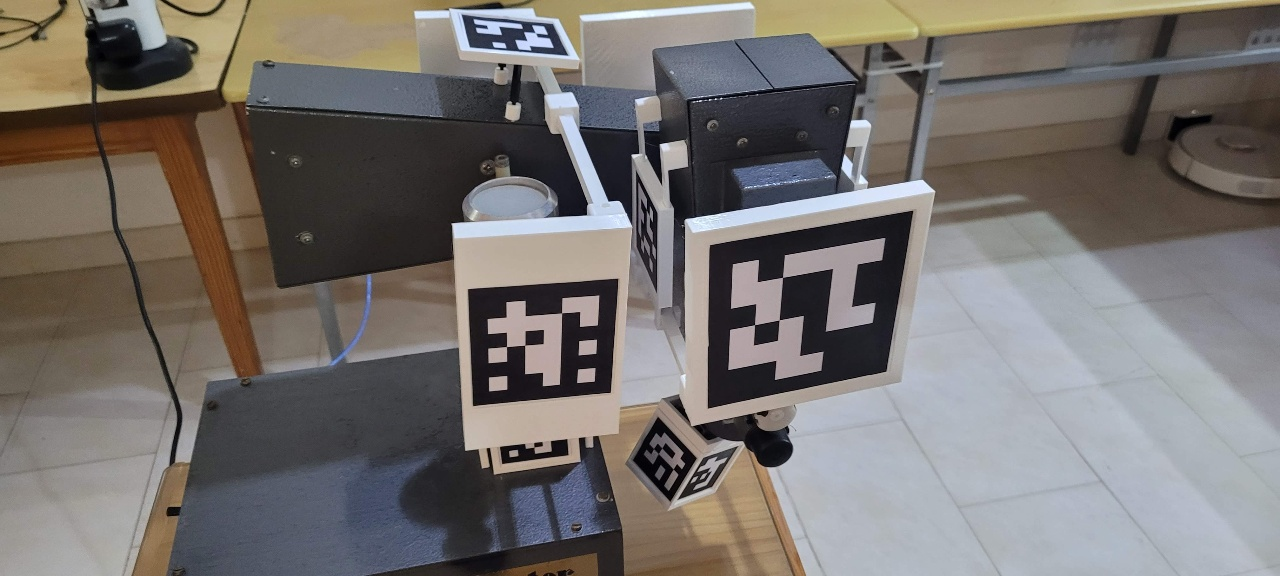Robot: (244, 1, 938, 515)
